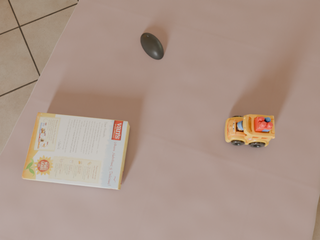box: (22, 112, 130, 190)
mouse: (141, 33, 164, 60)
toy_car: (225, 114, 275, 147)
